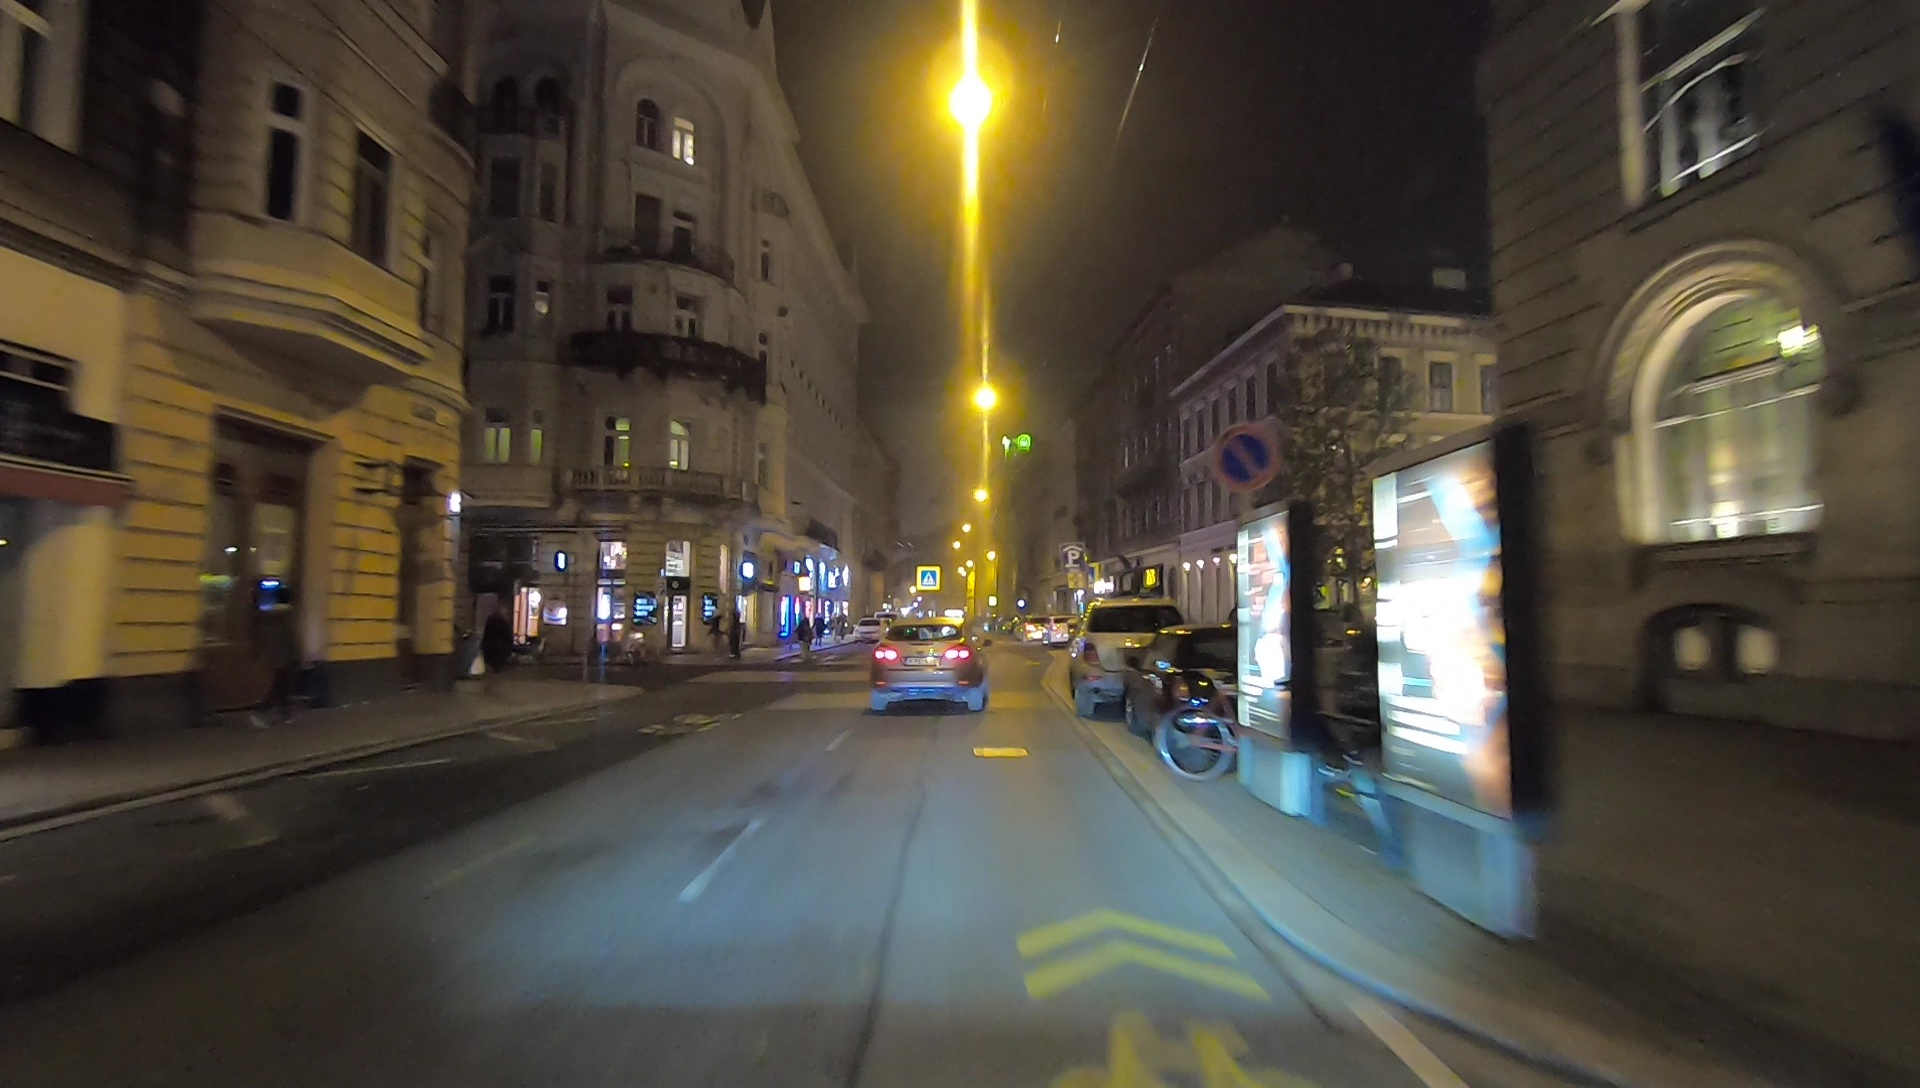person: (255, 599, 293, 725), (476, 599, 518, 706), (795, 618, 814, 661), (730, 603, 744, 659), (709, 611, 724, 661), (816, 612, 823, 644)
